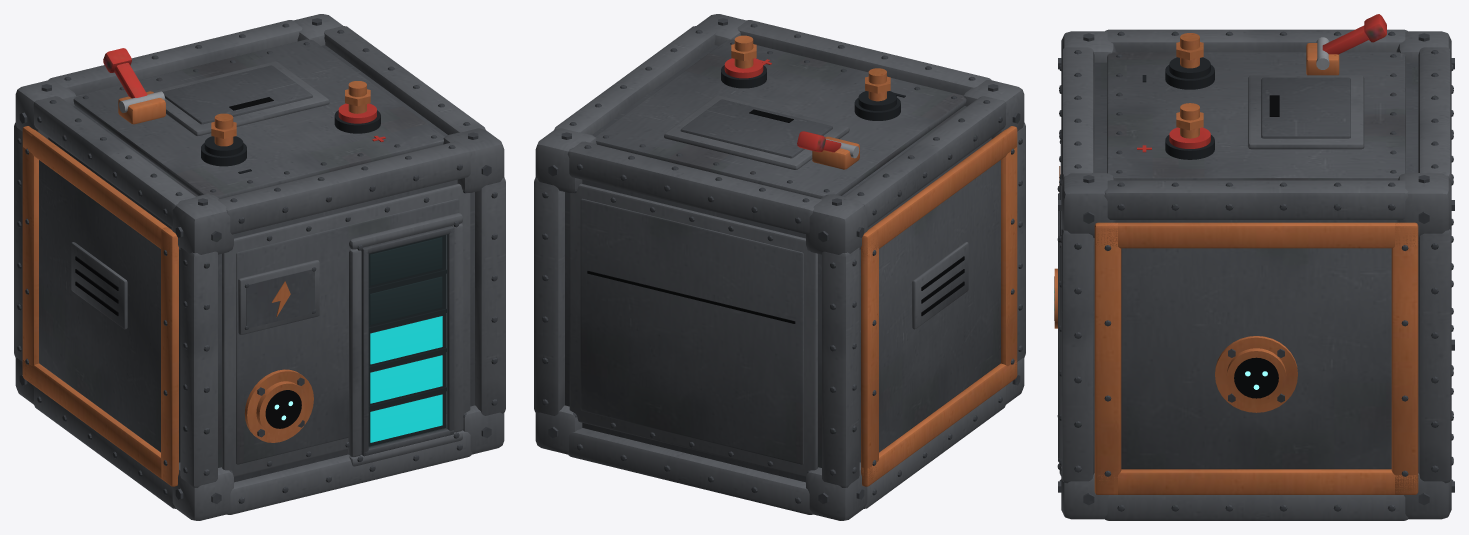
Rendered from battery.glb.
The picture shows the model from 3 angles, left to right: view 1: azimuth 30°, elevation 25°; view 2: azimuth 150°, elevation 25°; view 3: azimuth 270°, elevation 25°; orthographic projection. The views are drawn at different scales.
Parts seen in each view (by area): view 1: Housing, Glass, Cell4Off, Cell3Off, Cell1On, Cell0On, Cell2On; view 2: Housing; view 3: Housing.
Boxes of the visible parts, box(x1,y1,x2,y2) form: Housing: box(14, 14, 505, 520); Glass: box(369, 234, 447, 448); Cell4Off: box(369, 237, 442, 285); Cell3Off: box(369, 276, 442, 324); Cell1On: box(370, 355, 442, 403); Cell0On: box(370, 394, 442, 442); Cell2On: box(370, 316, 442, 364); Housing: box(534, 14, 1025, 520); Housing: box(1054, 14, 1454, 520).
Size of the model in its own units: 0.4973 by 0.5052 by 0.4828.
Materials: 14 (7 with a texture image).
